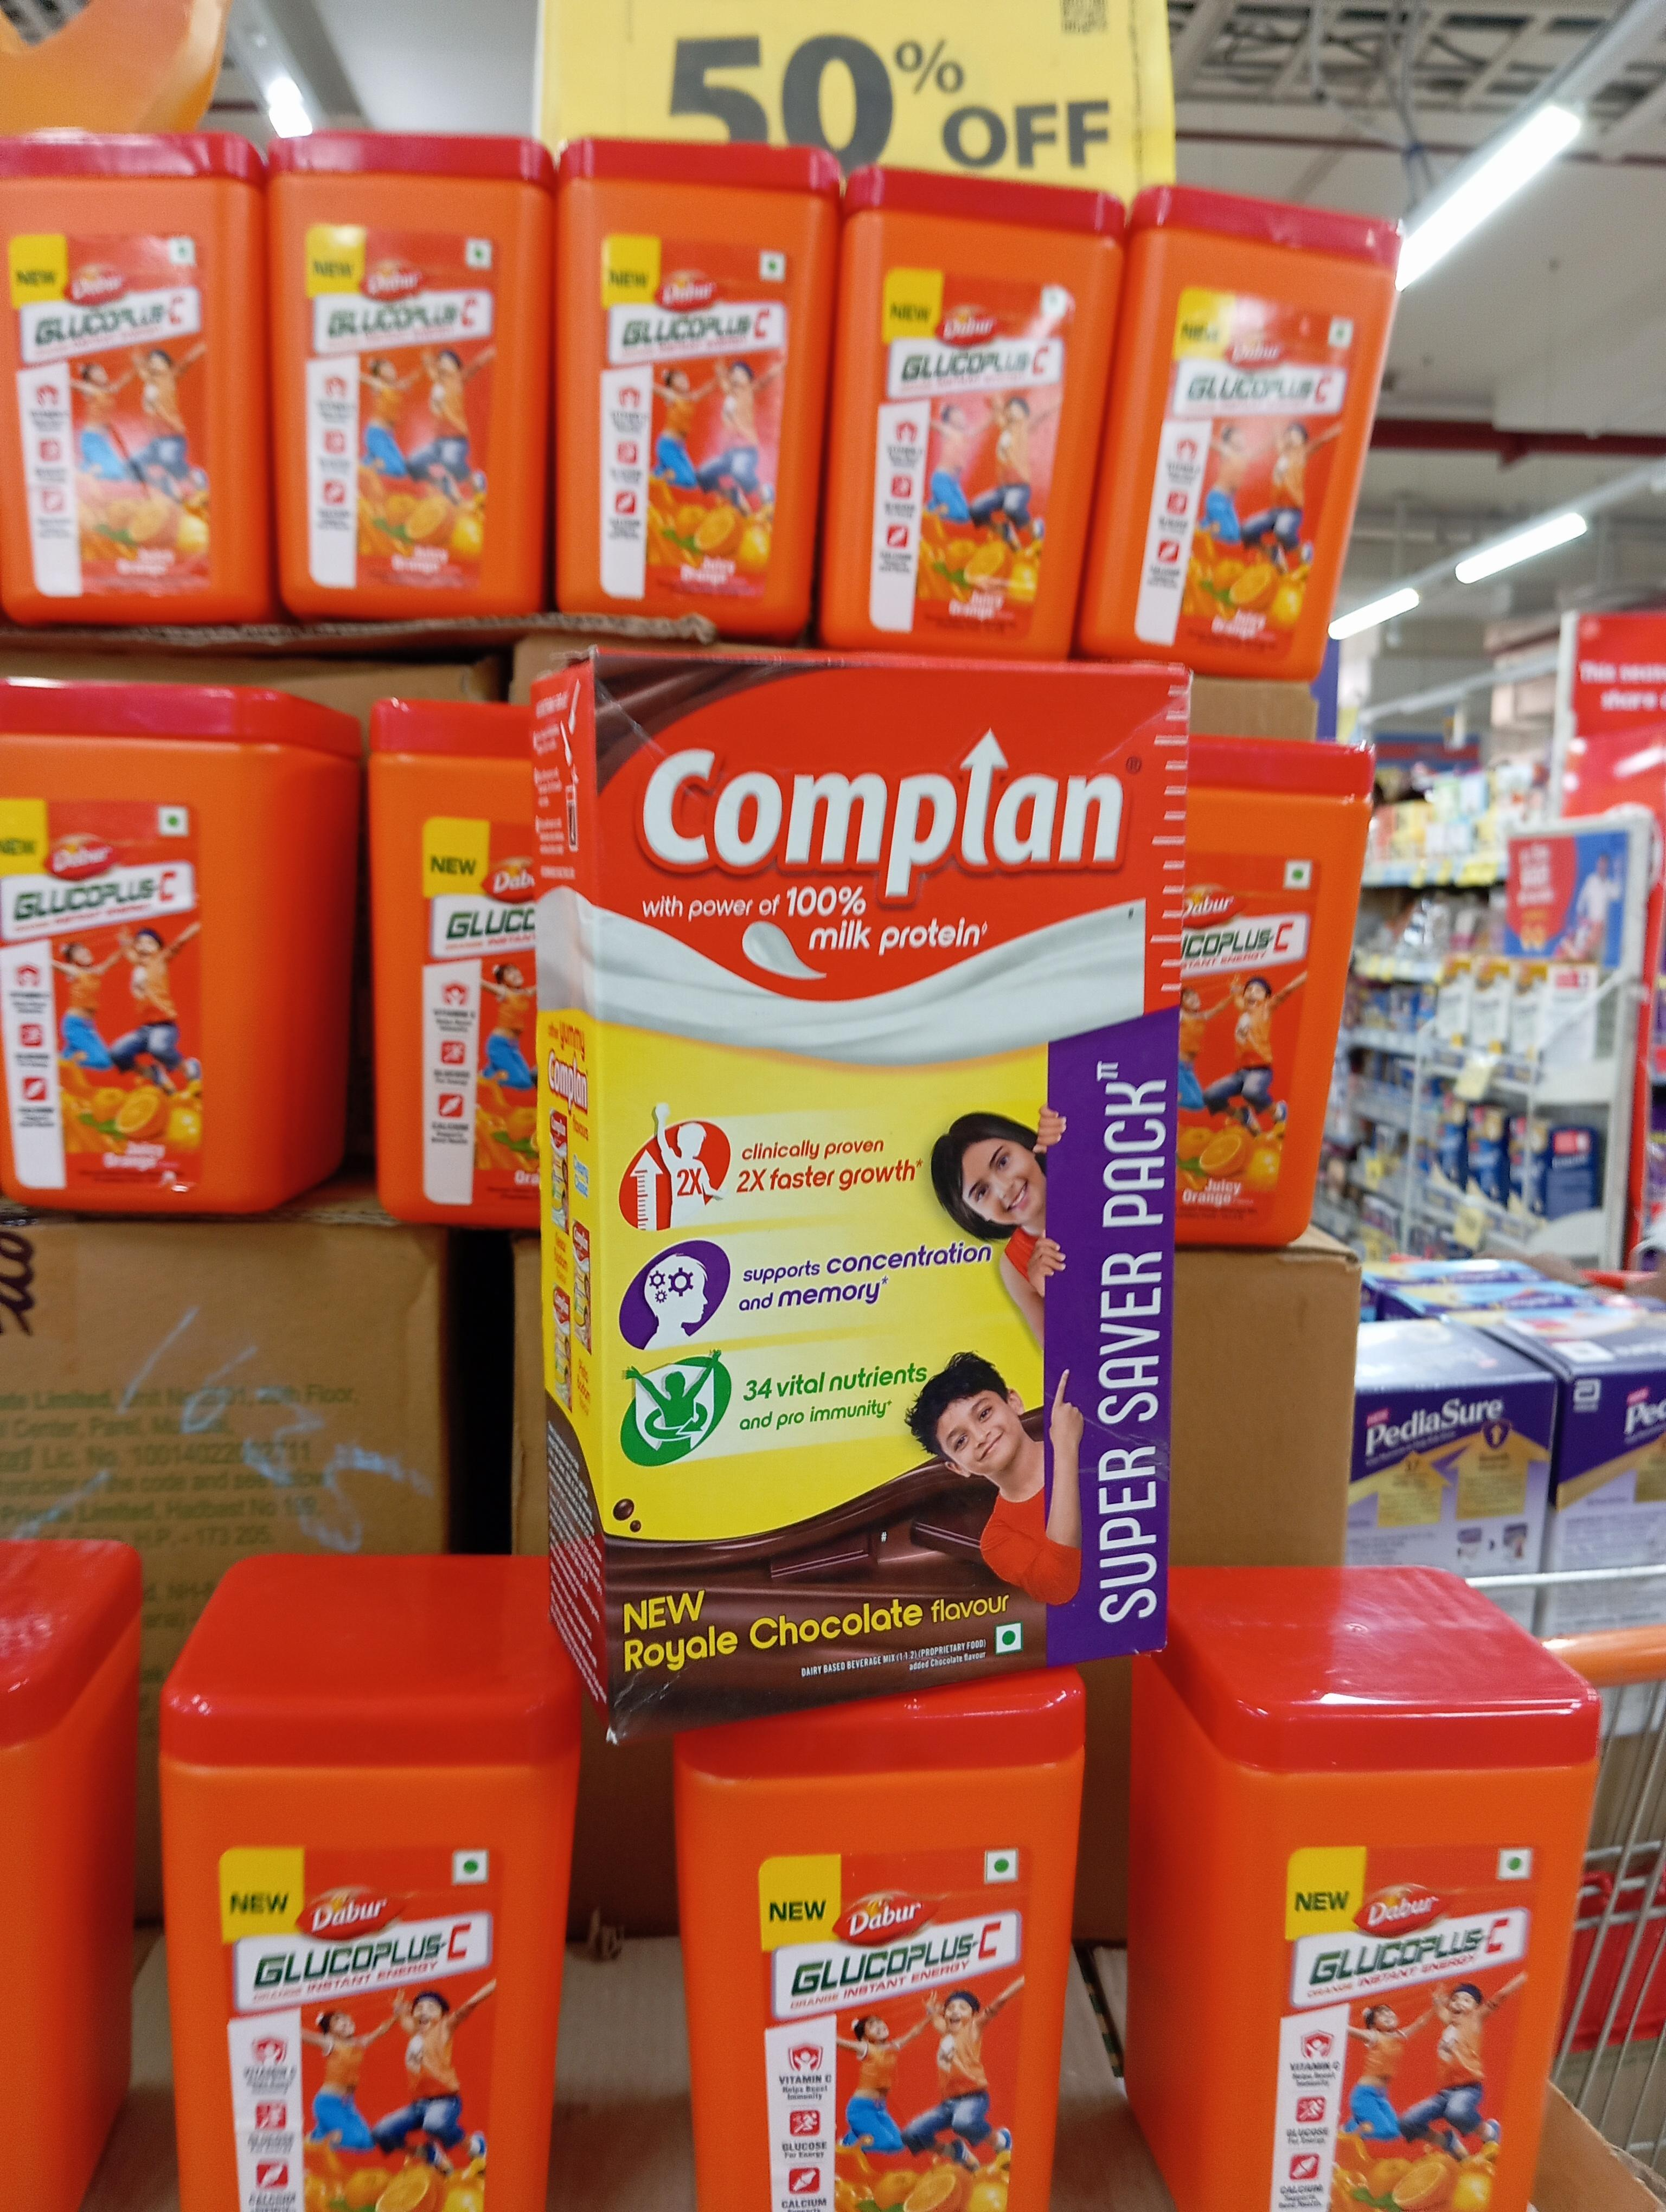COMPLAN_CHOCOLATE_1_KG_PACK: (591, 642, 1192, 1714)
